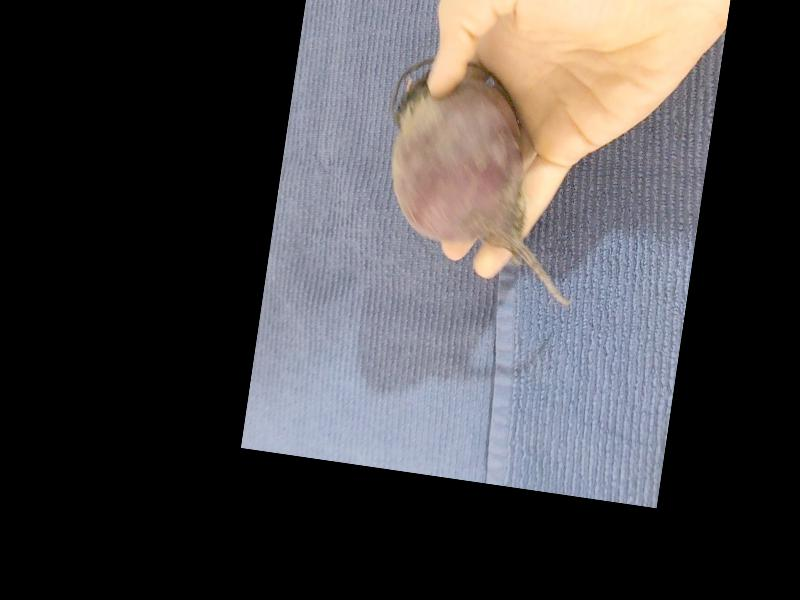Beet: (366, 52, 602, 307)
